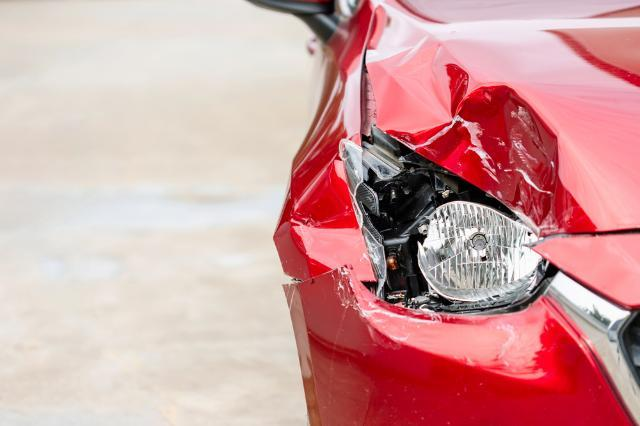dent: (368, 30, 567, 237), (293, 154, 376, 282)
lamp broken: (339, 139, 550, 315)
scratch: (334, 265, 539, 370)
